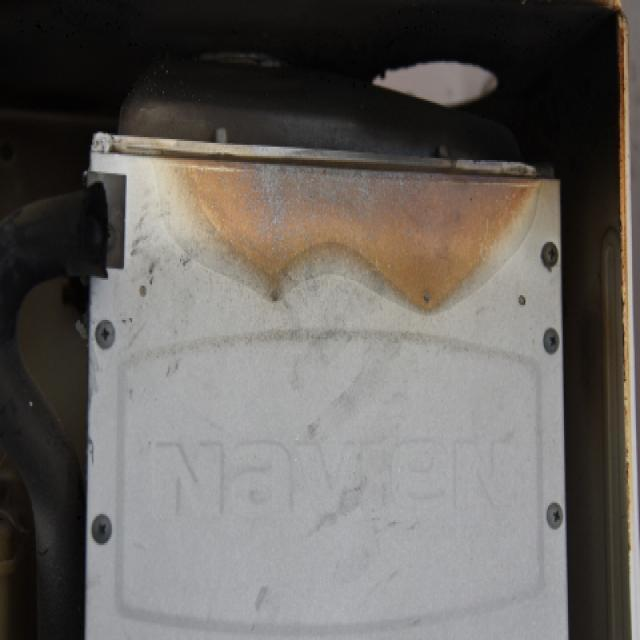Boiler: (49, 96, 601, 640)
